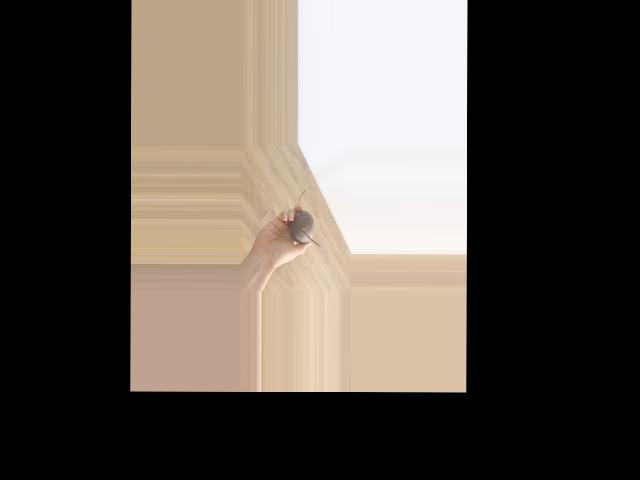beet: (288, 189, 320, 246)
